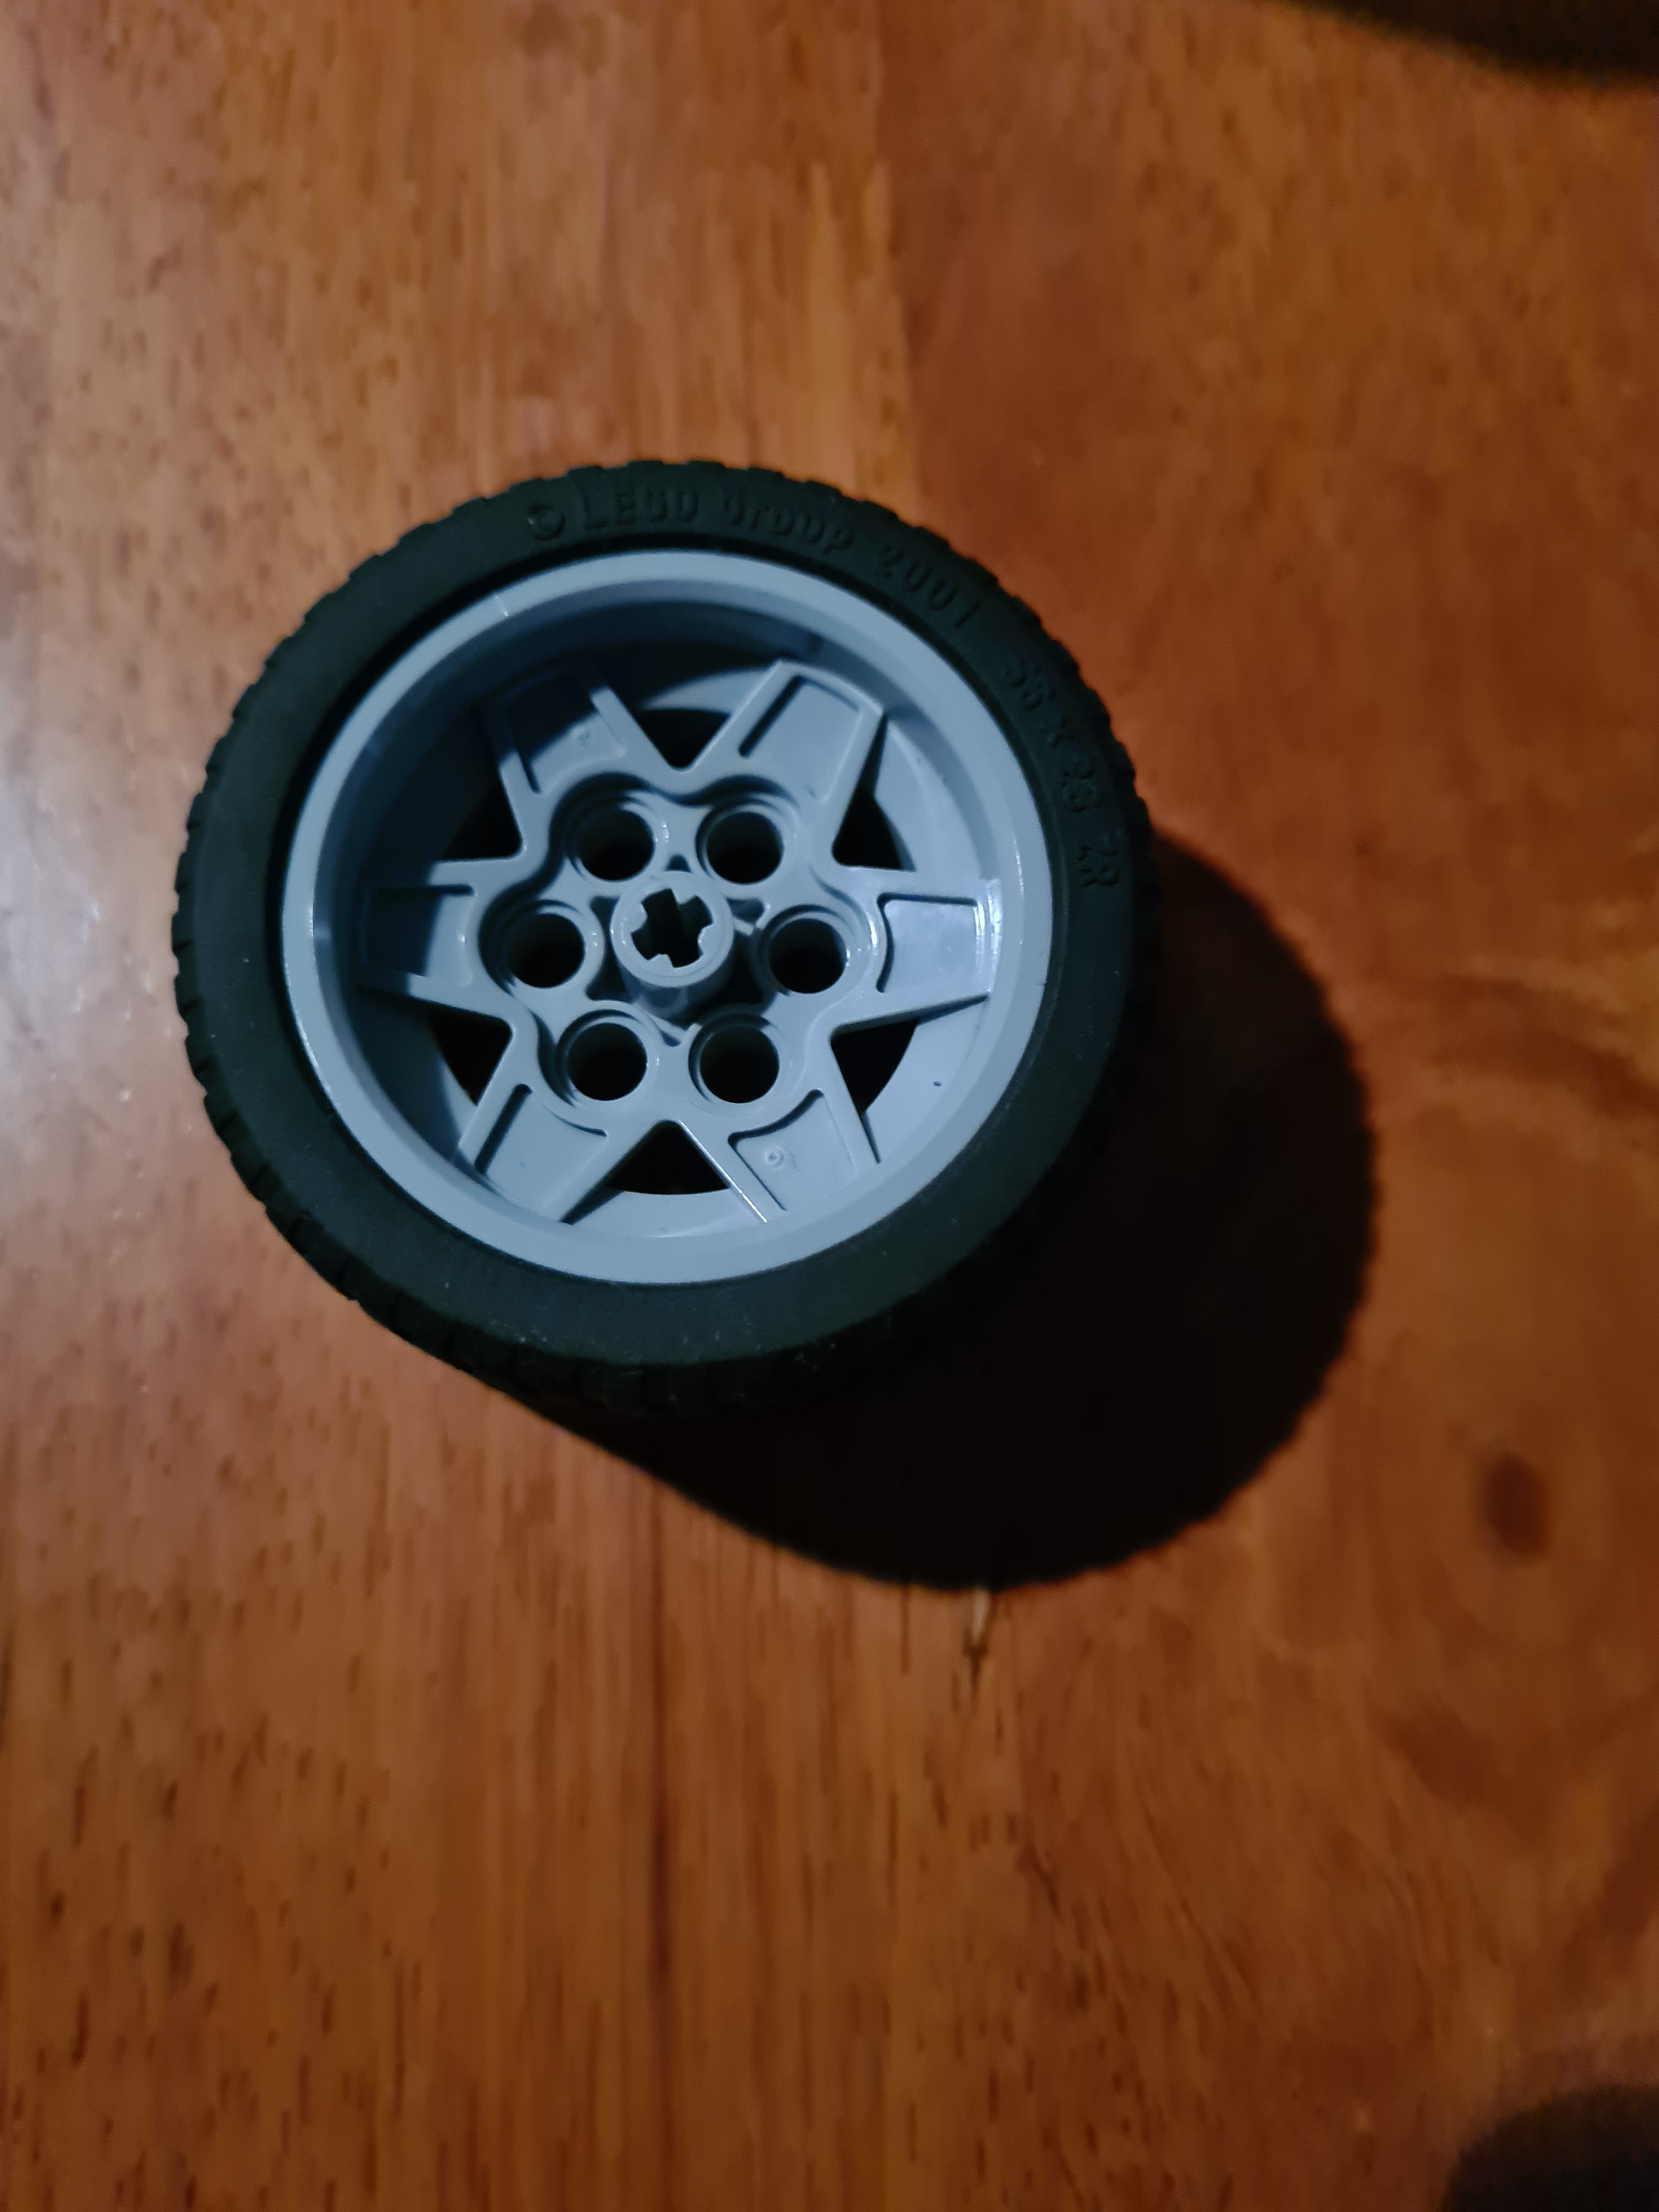Rad: (153, 434, 1180, 1453)
